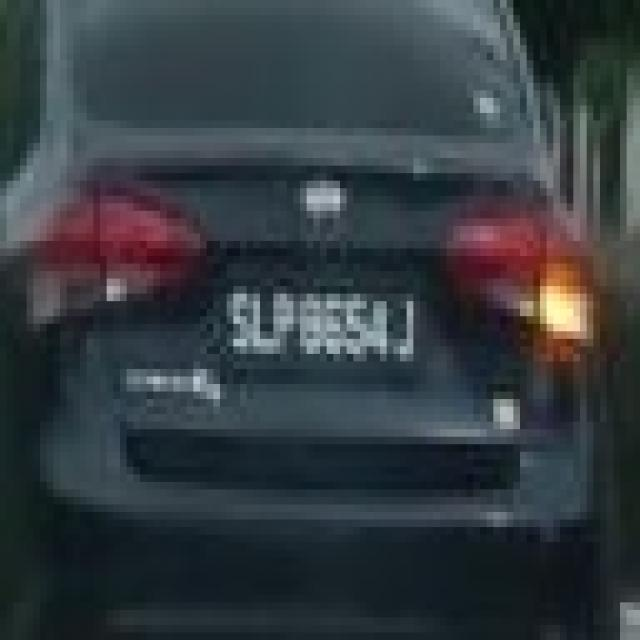4: (363, 300, 396, 368)
5: (344, 293, 369, 365), (323, 293, 346, 358)
8: (298, 288, 324, 362)
J: (392, 296, 417, 368)
L: (251, 289, 281, 354)
P: (268, 284, 297, 358)
S: (224, 286, 252, 354)
